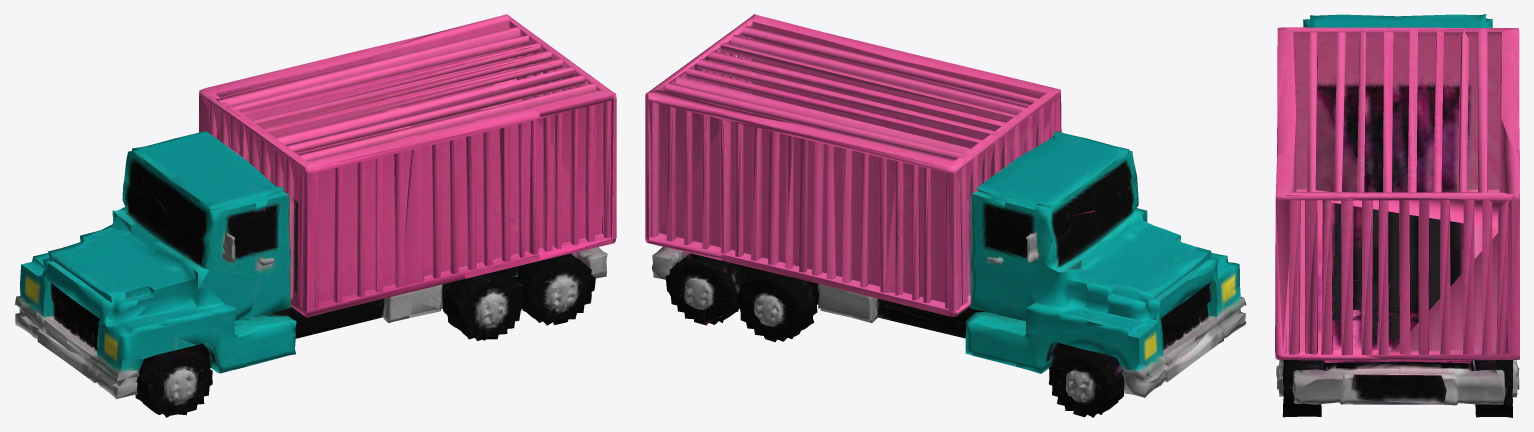
Rendered from truck-teal.glb.
3 views of the same model, side by side, from view 1: azimuth 30°, elevation 25°; view 2: azimuth 150°, elevation 25°; view 3: azimuth 270°, elevation 25° (orthographic). The views are drawn at different scales.
Size of the model in its own units: 1 by 0.4248 by 0.3838.
Materials: 1 (1 with a texture image).
